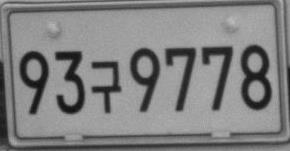3: (54, 49, 85, 114)
7: (200, 44, 233, 111), (163, 46, 196, 112)
8: (239, 43, 273, 111)
9: (128, 47, 161, 112), (17, 50, 49, 115)
구: (90, 60, 121, 114)
